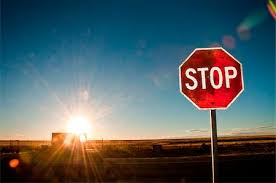Stop: (173, 48, 240, 116)
